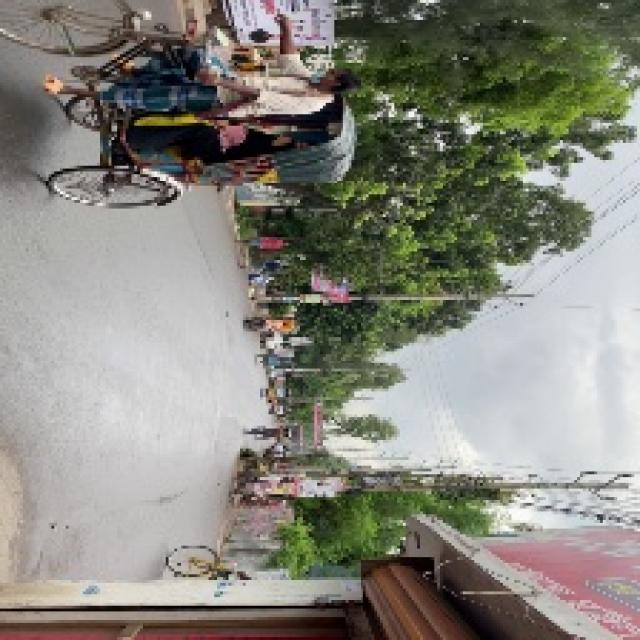bike: (243, 317, 274, 335)
rickshaw: (20, 5, 362, 203), (252, 352, 298, 369)
